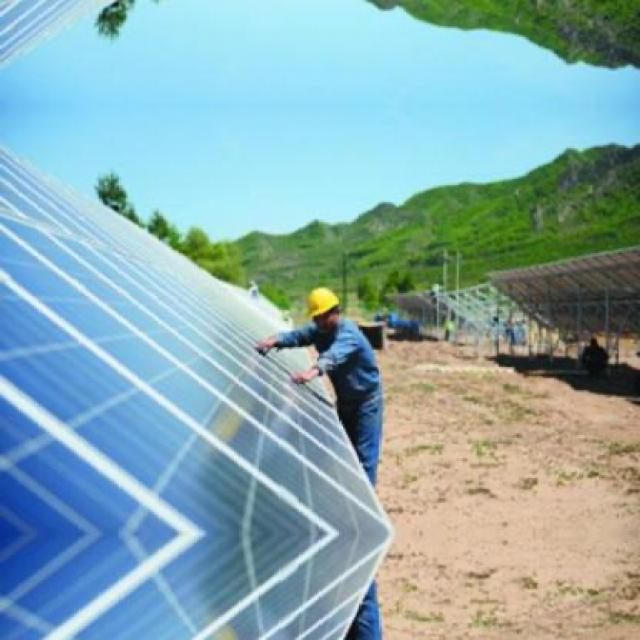helmet: (304, 286, 344, 328)
